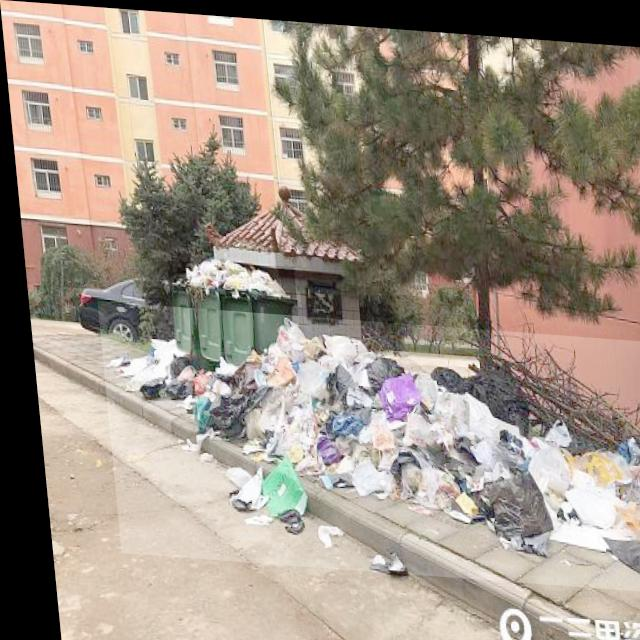garbage: (91, 300, 640, 585)
overflow: (211, 258, 296, 365), (162, 258, 197, 367), (185, 252, 219, 362)
